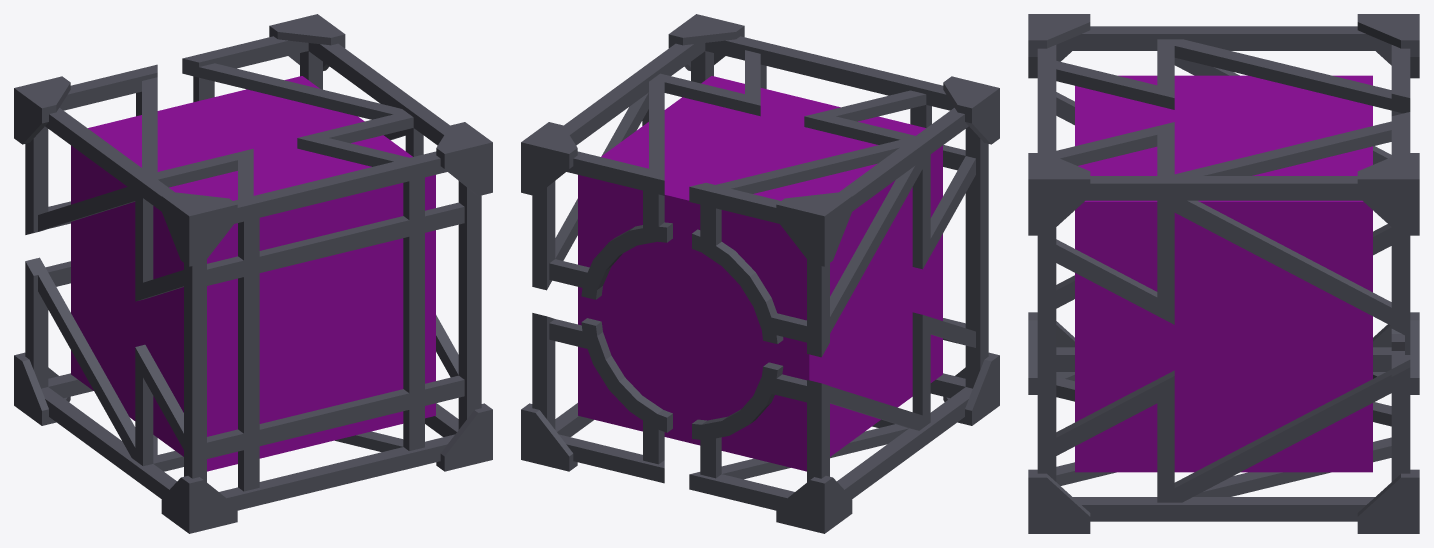
The model's file is magenta-source.glb.
The picture shows the model from 3 angles, left to right: view 1: azimuth 30°, elevation 25°; view 2: azimuth 150°, elevation 25°; view 3: azimuth 270°, elevation 25°; orthographic projection. The views are drawn at different scales.
Visible parts, largest first — view 1: laser box; view 2: laser box; view 3: laser box.
Boxes of the visible parts, <box> form: laser box: <box>14,14,492,533</box>; laser box: <box>521,14,999,533</box>; laser box: <box>1028,14,1419,533</box>.
Bounding box in the file's own units: 1 × 1 × 1.
